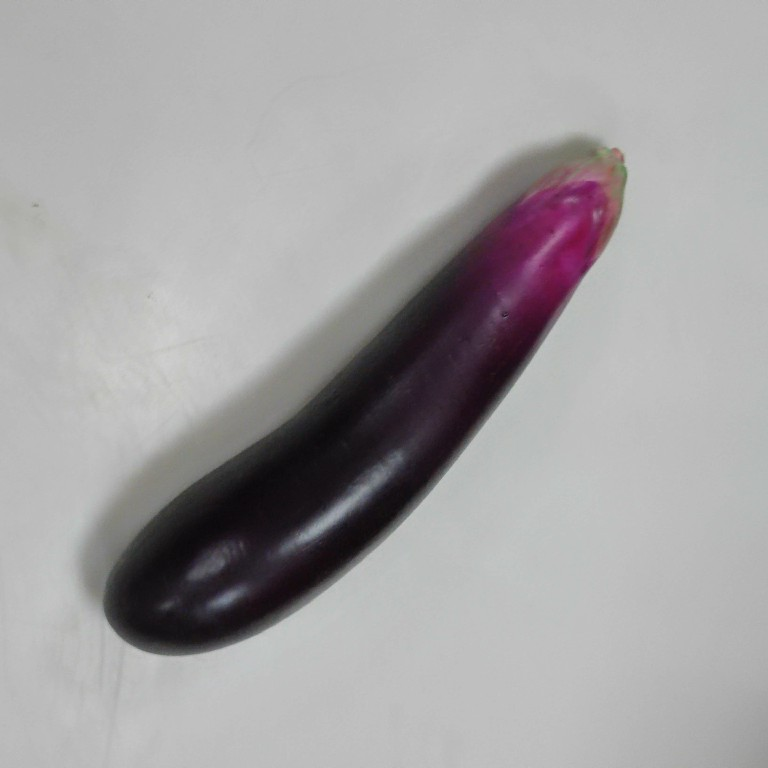fruit_eggplant: (98, 140, 632, 661)
